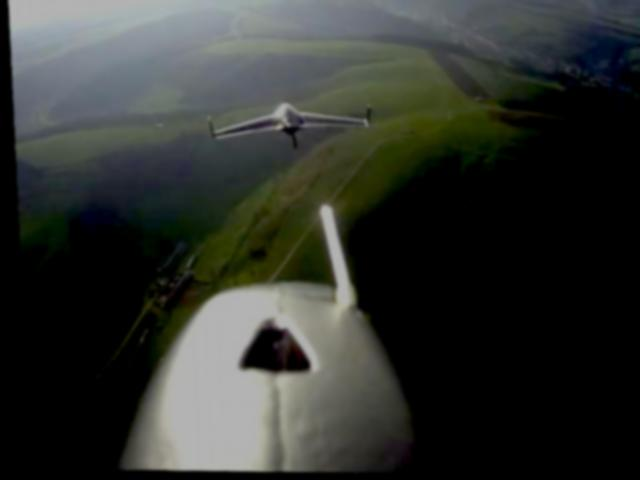iha: (199, 92, 374, 146)
